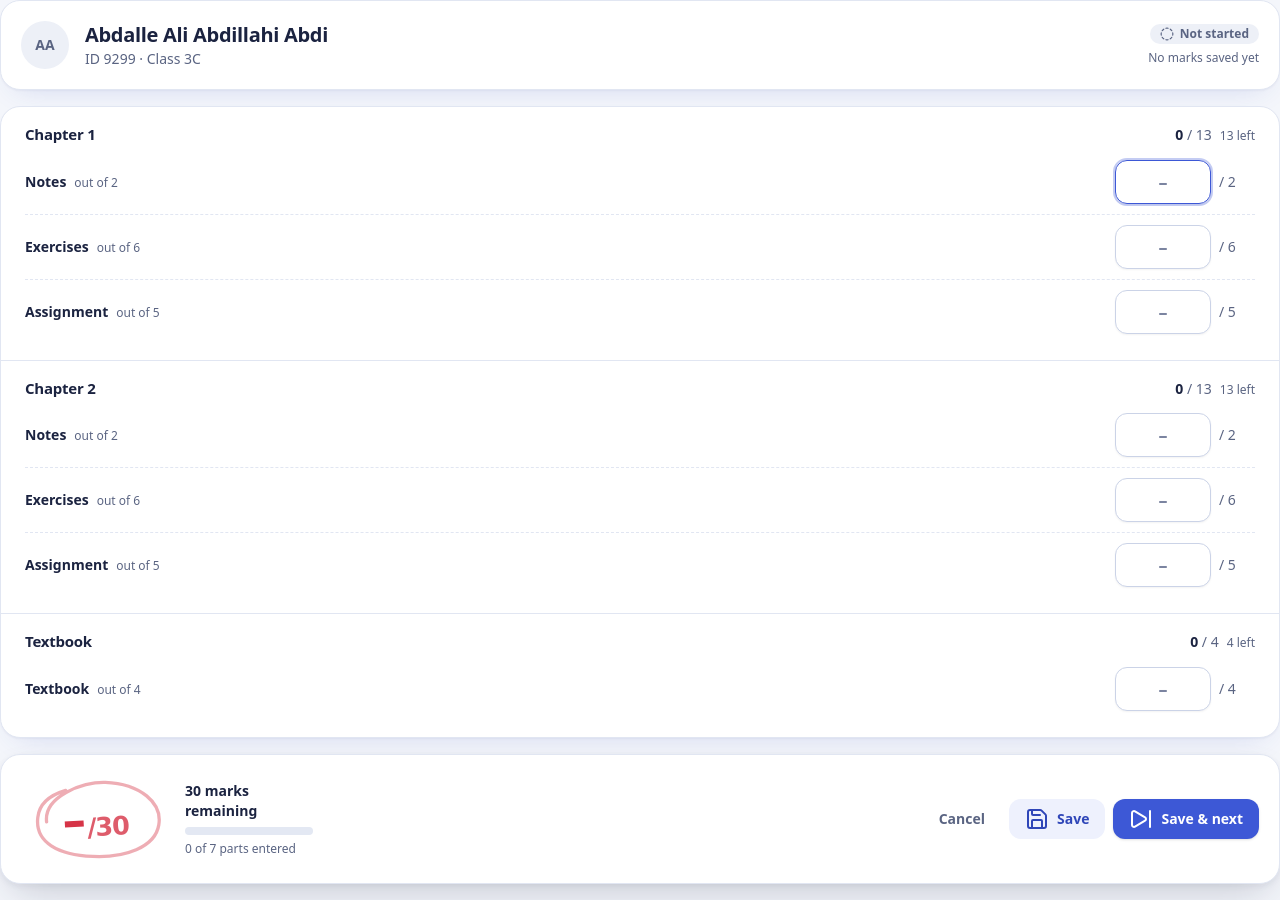
Test case: MarkSheet › refuses to save an empty sheet
Click the button "Save & next".
click(1186, 818)  # box left=1113, top=798, right=1259, bottom=838
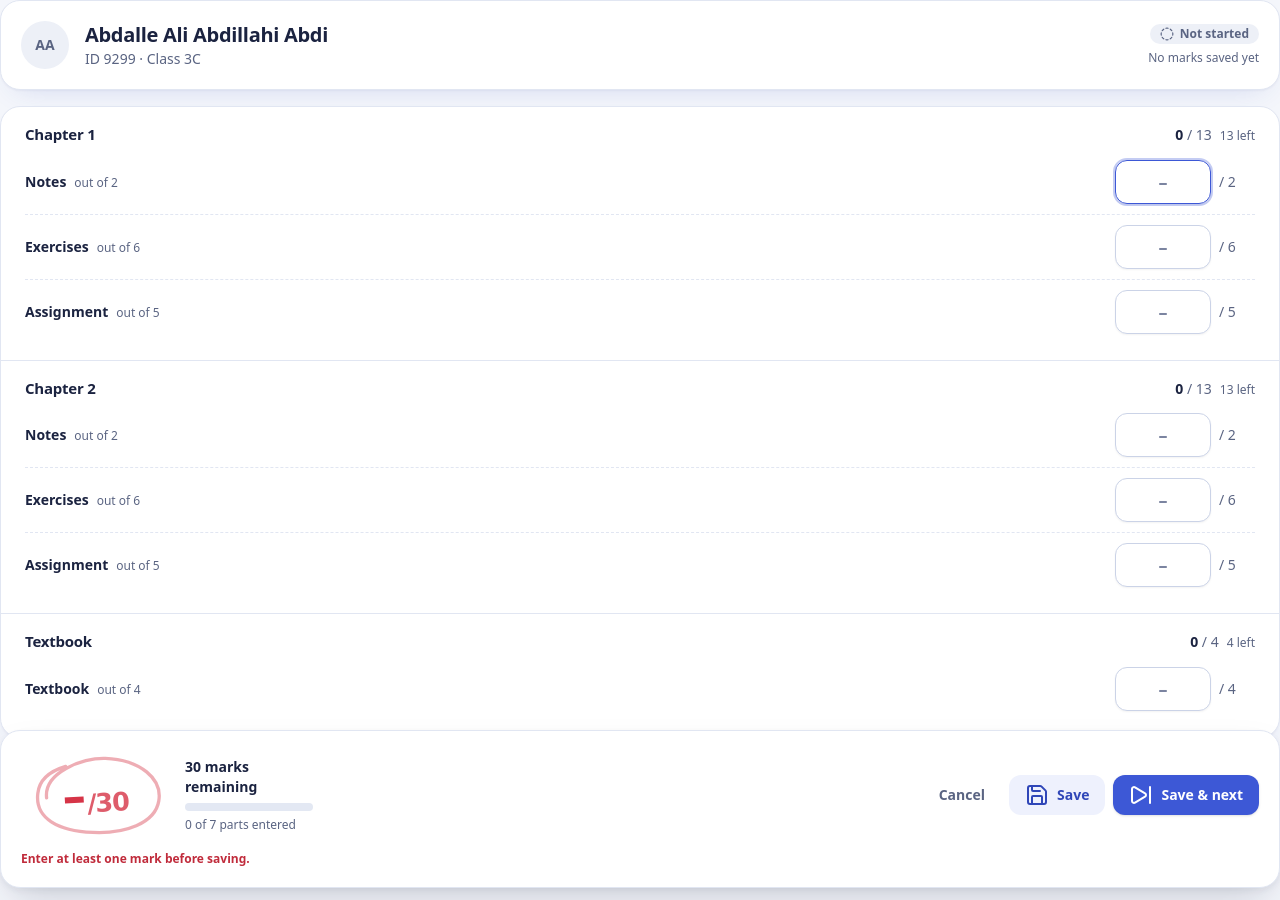
Check: the text "Enter at least one mark before saving." is shown, box left=21, top=850, right=250, bottom=867
